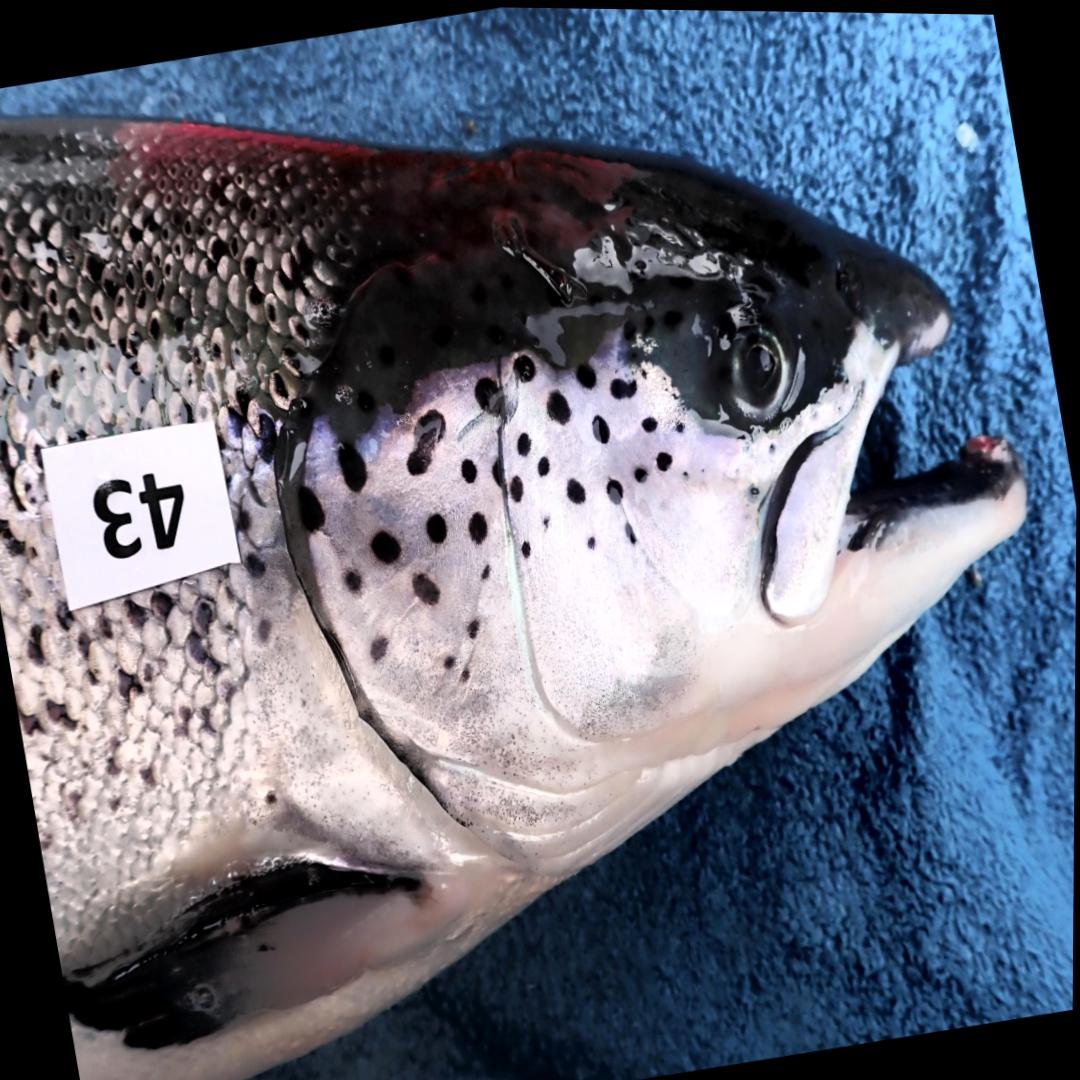spot: (406, 407, 444, 472), (473, 374, 513, 419), (336, 439, 367, 491), (298, 484, 325, 530), (370, 527, 401, 562), (411, 571, 439, 603), (545, 389, 570, 421), (425, 510, 446, 542), (512, 351, 535, 380), (467, 509, 487, 542), (574, 361, 596, 387), (610, 376, 637, 397), (369, 634, 389, 662), (565, 475, 585, 502), (591, 412, 609, 441), (343, 568, 362, 594), (605, 475, 623, 501), (508, 473, 523, 500), (460, 457, 476, 481), (491, 455, 503, 485), (655, 448, 672, 469), (516, 430, 530, 454), (536, 453, 550, 475), (641, 412, 657, 430), (745, 479, 759, 499), (467, 616, 480, 637), (460, 661, 471, 683), (625, 520, 636, 540), (633, 464, 647, 479), (442, 652, 455, 668), (520, 539, 531, 557), (480, 561, 490, 579), (586, 534, 595, 547), (674, 419, 684, 430), (542, 514, 549, 525), (769, 440, 775, 452), (683, 468, 688, 476)
